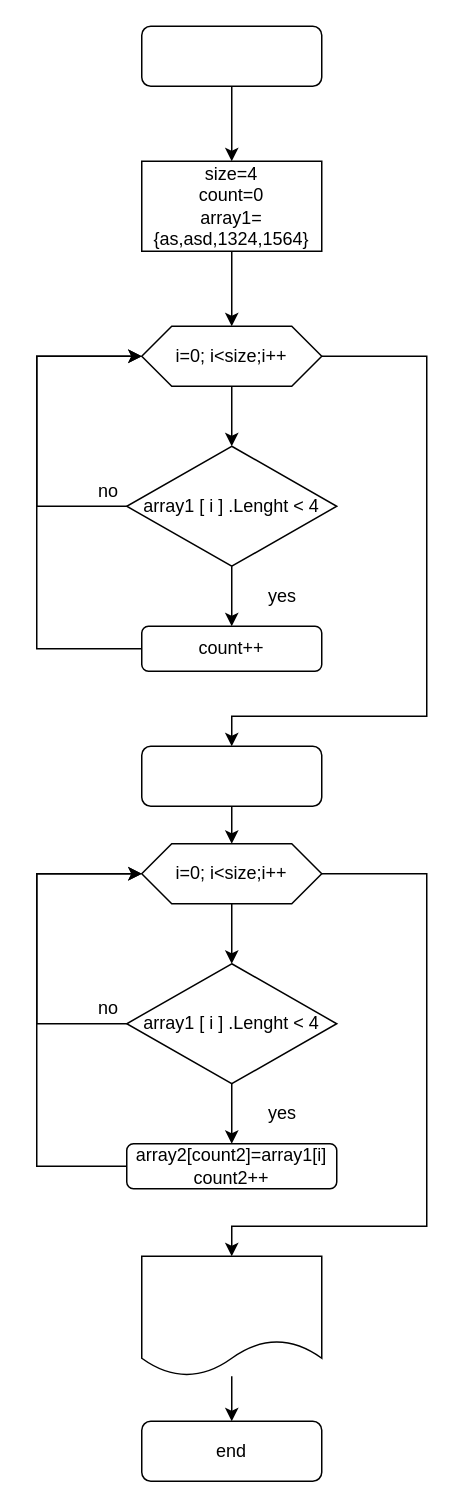
This 465x1508 diagram has some shape labels left out. Here are the shapes that lost their labels. From the top down, the centre of each, then its label:
[231,55]: start
[231,775]: array2 [count] count2=0
[231,1315]: array1 -> array2
